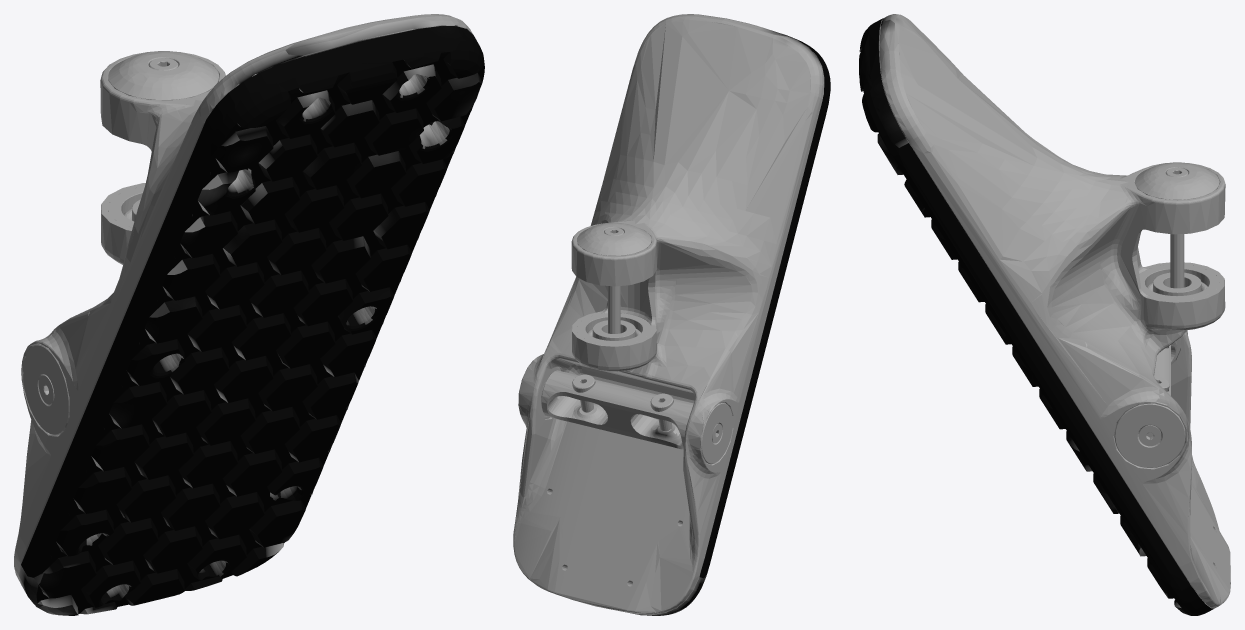
Rendered from toe-roll.obj.
3 renders of one model, left to right at view 1: azimuth 30°, elevation 25°; view 2: azimuth 150°, elevation 25°; view 3: azimuth 270°, elevation 25°, orthographic. The views are drawn at different scales.
Parts seen in each view (by area): view 1: toe-roll; view 2: toe-roll; view 3: toe-roll.
Part boxes in pixels (x1=…): toe-roll: x1=14, y1=14, x2=484, y2=615; toe-roll: x1=513, y1=14, x2=830, y2=615; toe-roll: x1=859, y1=14, x2=1230, y2=615.
Size of the model in its own units: 0.084 by 0.2122 by 0.1308.
1 material, 1 textured.
